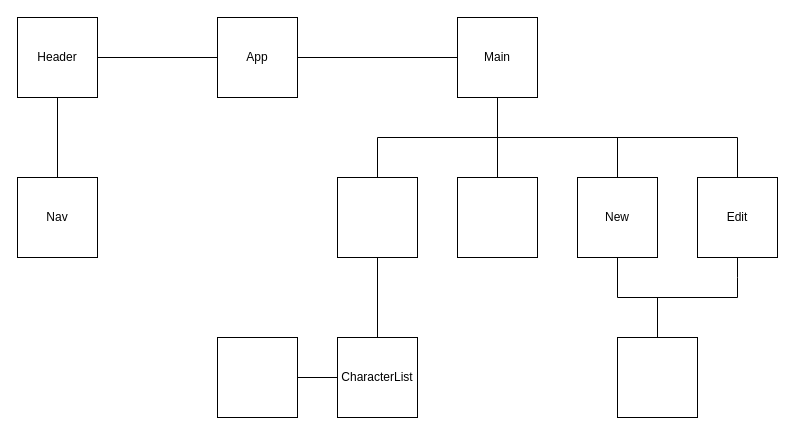
Some shapes in this 795 by 435 pixel diagram are drawn without their labels. The shapes that lost their labels are listed below. From the top down, each one's centre as x and y in pixels, then its label:
point 377,217: Index
point 497,217: Show
point 257,377: CharacterCard
point 657,377: CharacterForm
